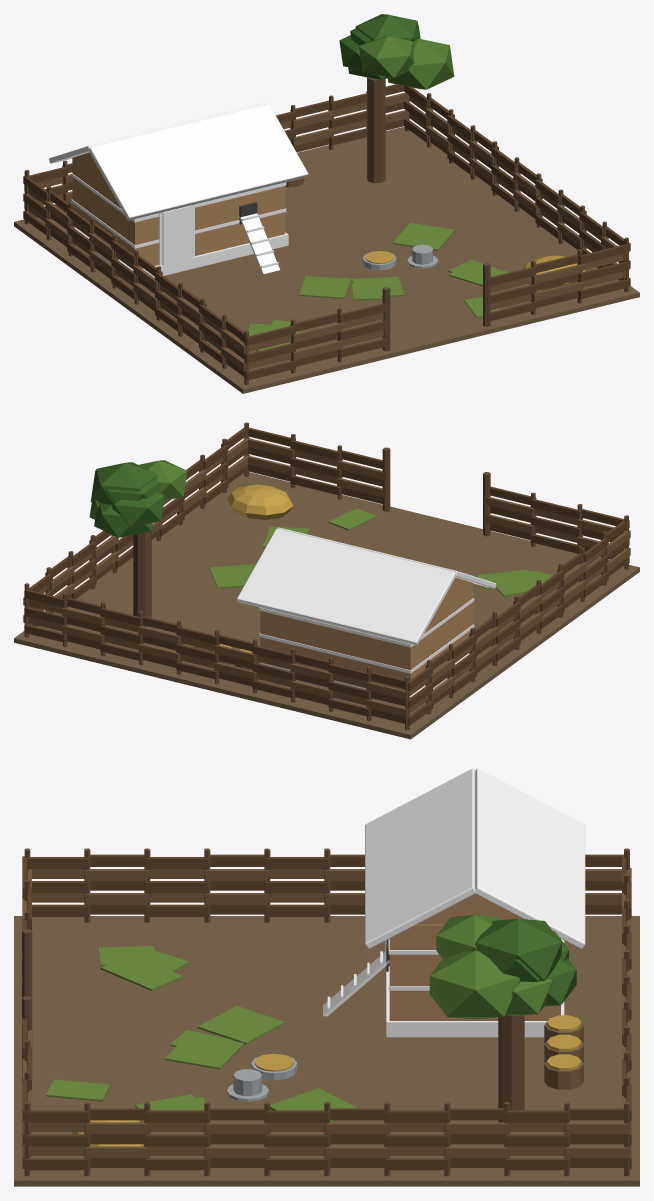
Rendered from kumes.glb.
3 renders of one model, top to bottom at view 1: azimuth 30°, elevation 25°; view 2: azimuth 150°, elevation 25°; view 3: azimuth 270°, elevation 25°, orthographic. The views are drawn at different scales.
Parts seen in each view (by area): view 1: Alin; view 2: Alin; view 3: Alin.
Boxes of the visible parts, x1,y1,x2,y2 form: Alin: [14, 14, 639, 393]; Alin: [14, 422, 639, 739]; Alin: [14, 768, 639, 1186].
Size of the model in its own units: 1 by 0.3992 by 1.
